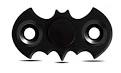fidget_spinner: (3, 0, 118, 70)
